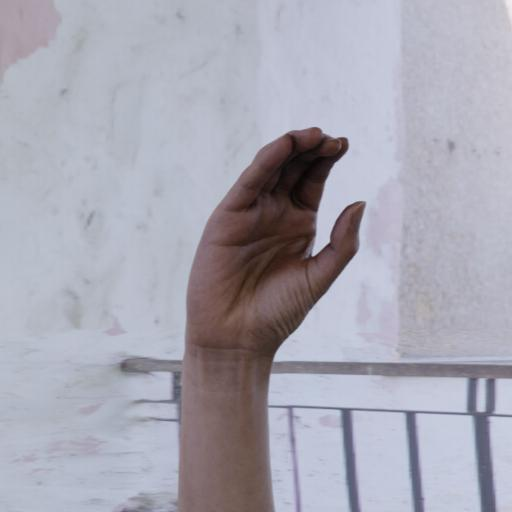C: (183, 118, 375, 374)
